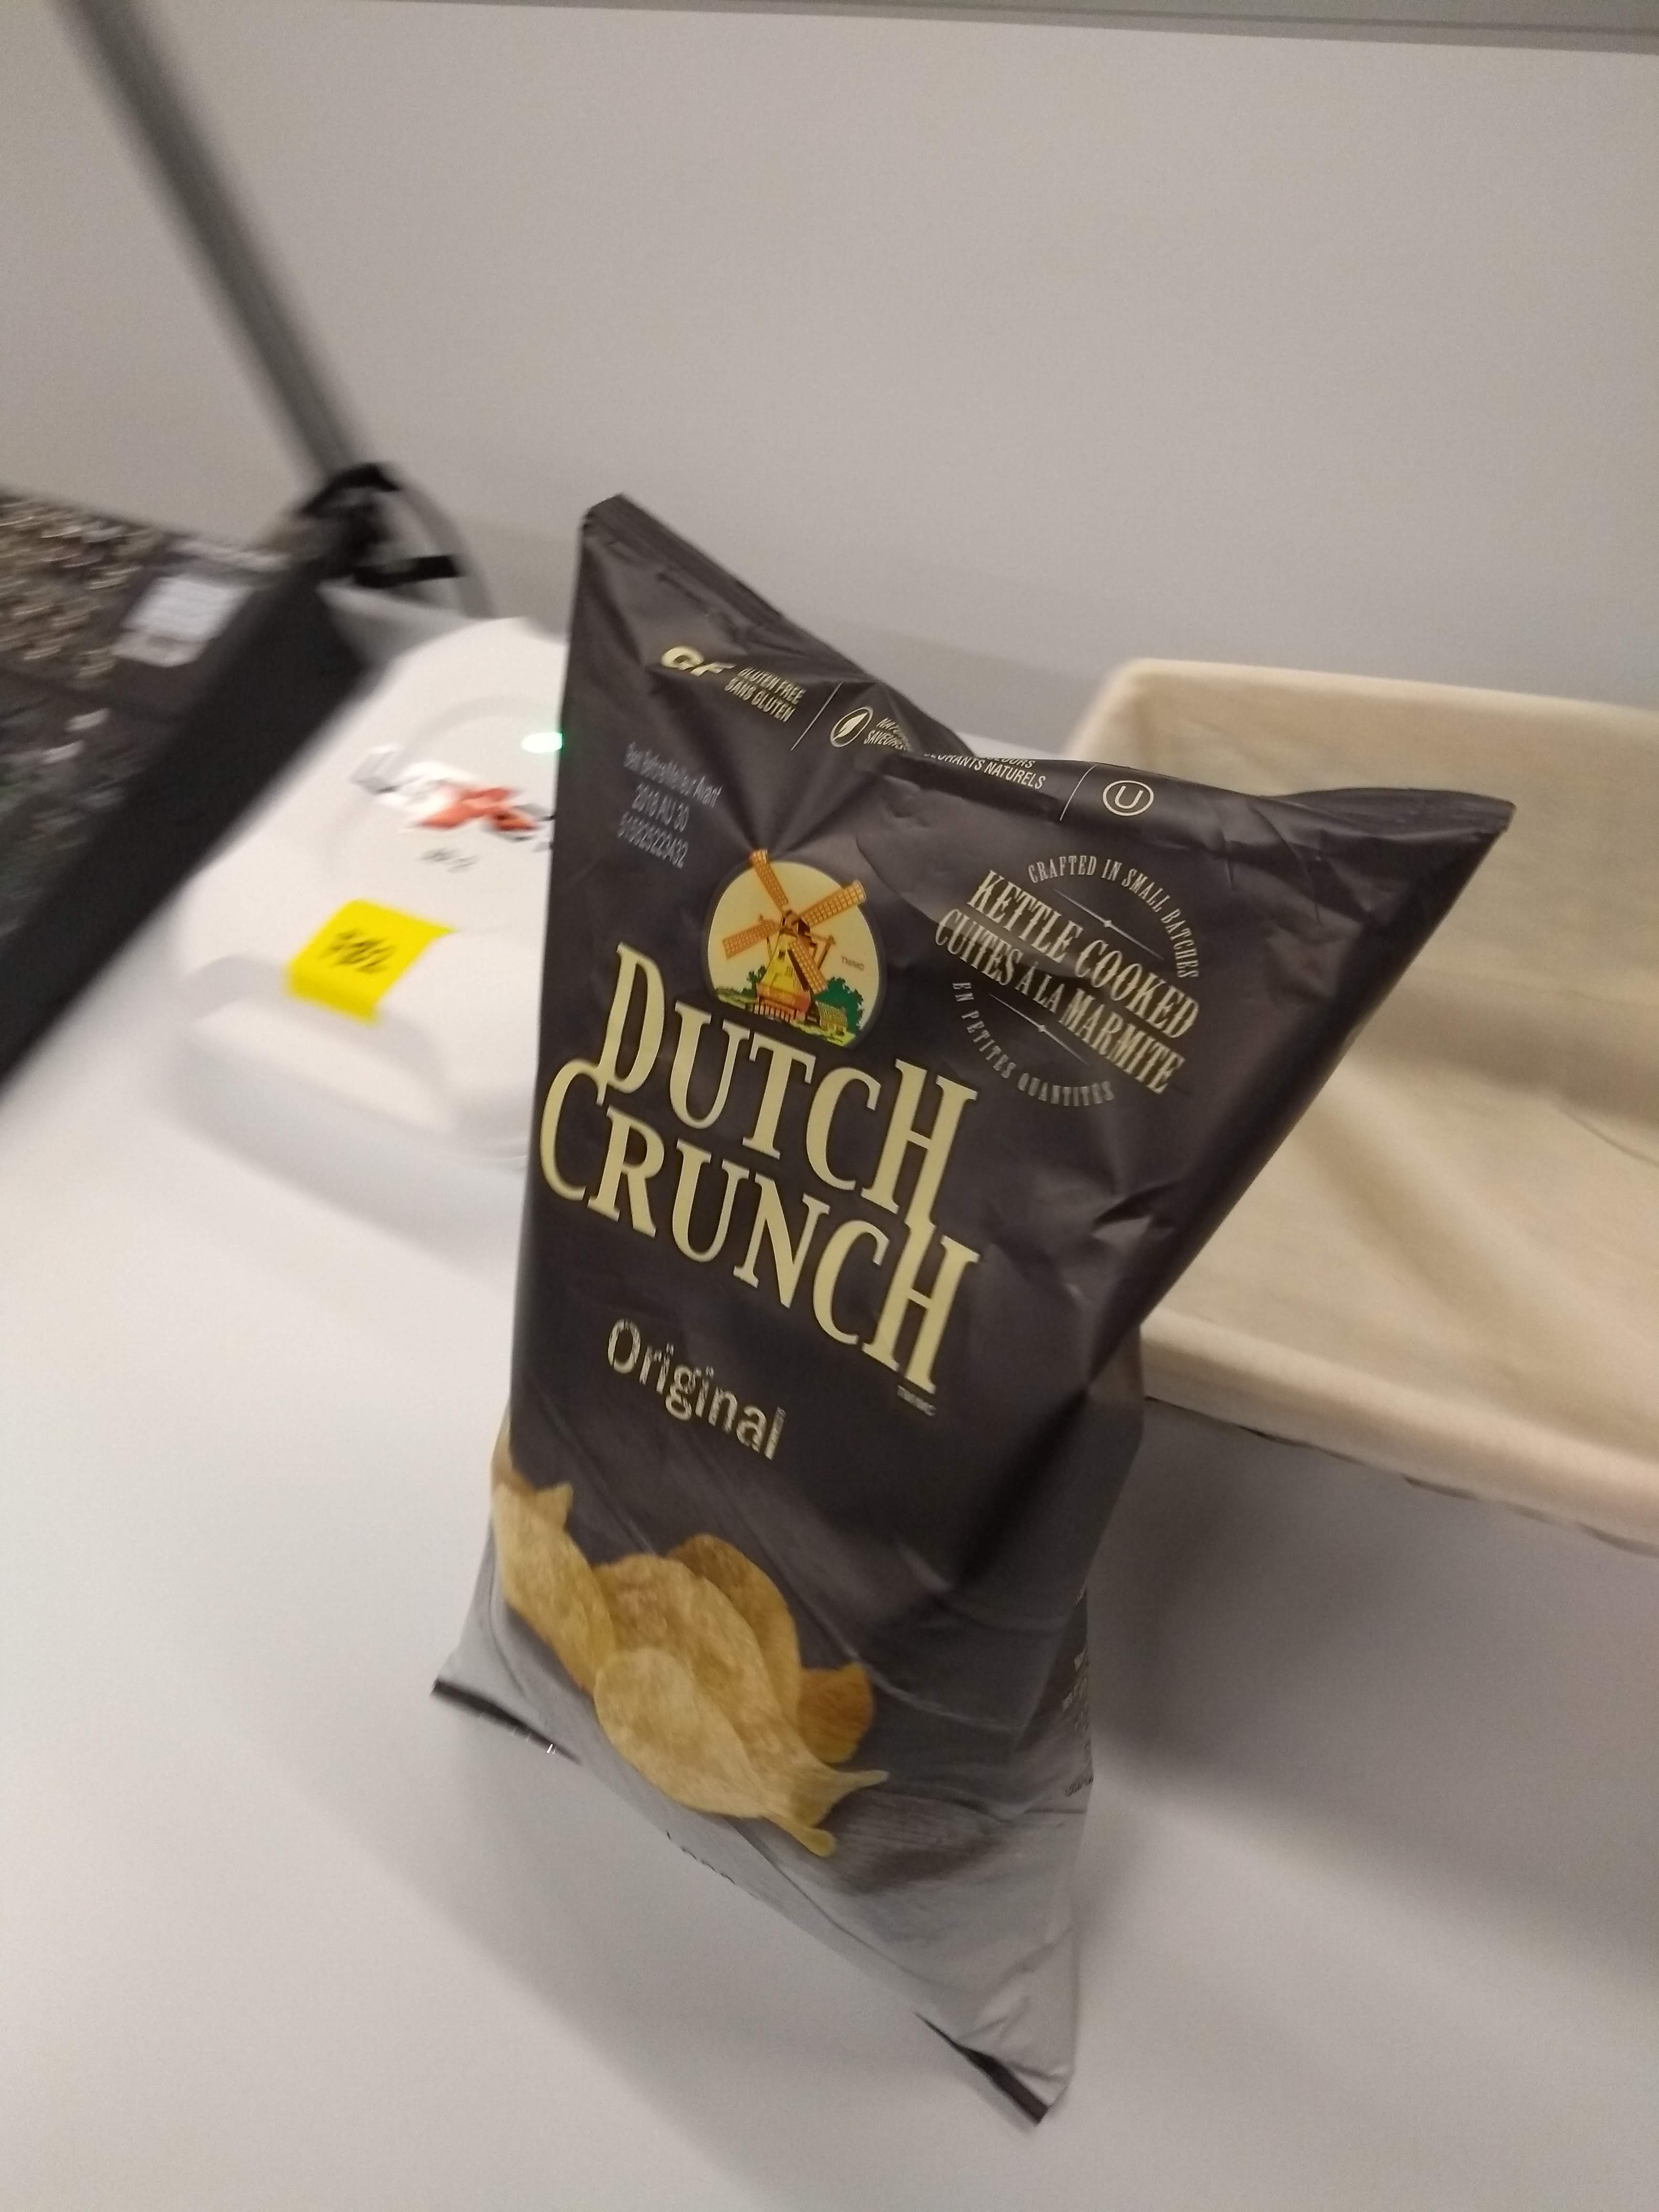potato_chips: (401, 474, 1523, 2137)
